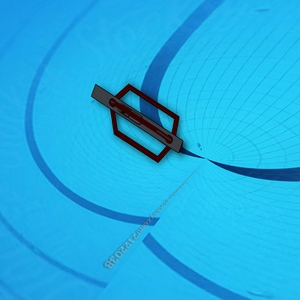submarine: (88, 81, 182, 161)
